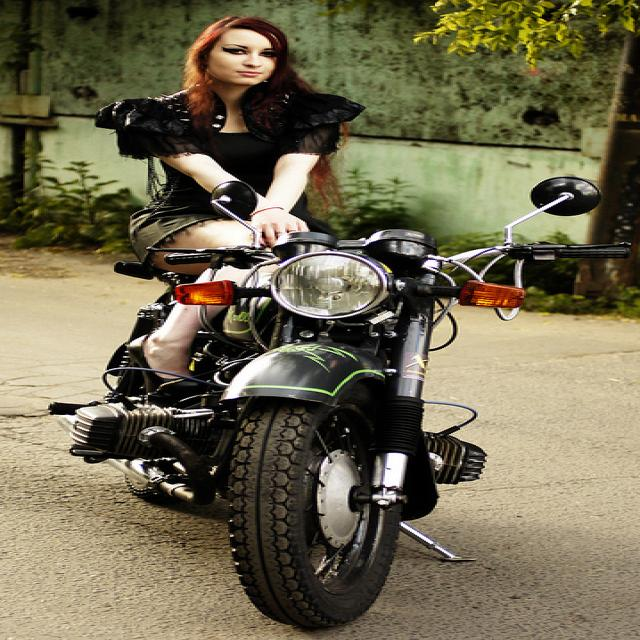motor: (162, 174, 597, 631)
